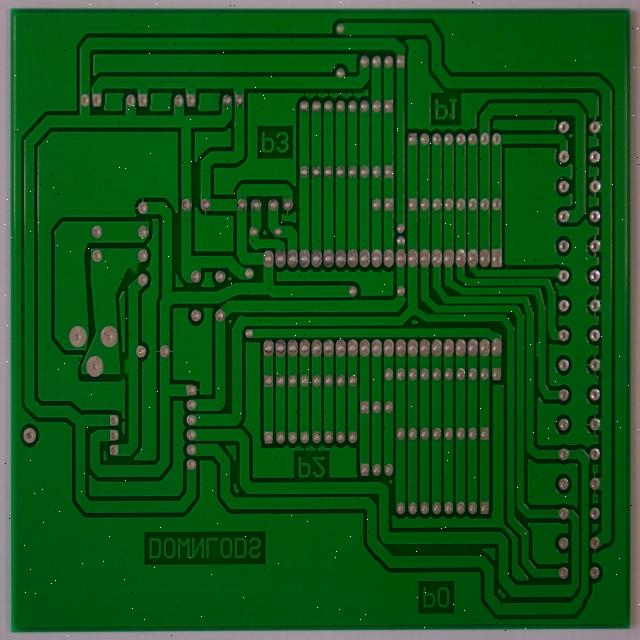spur: (122, 355, 134, 380), (534, 336, 544, 362), (125, 260, 140, 276)
